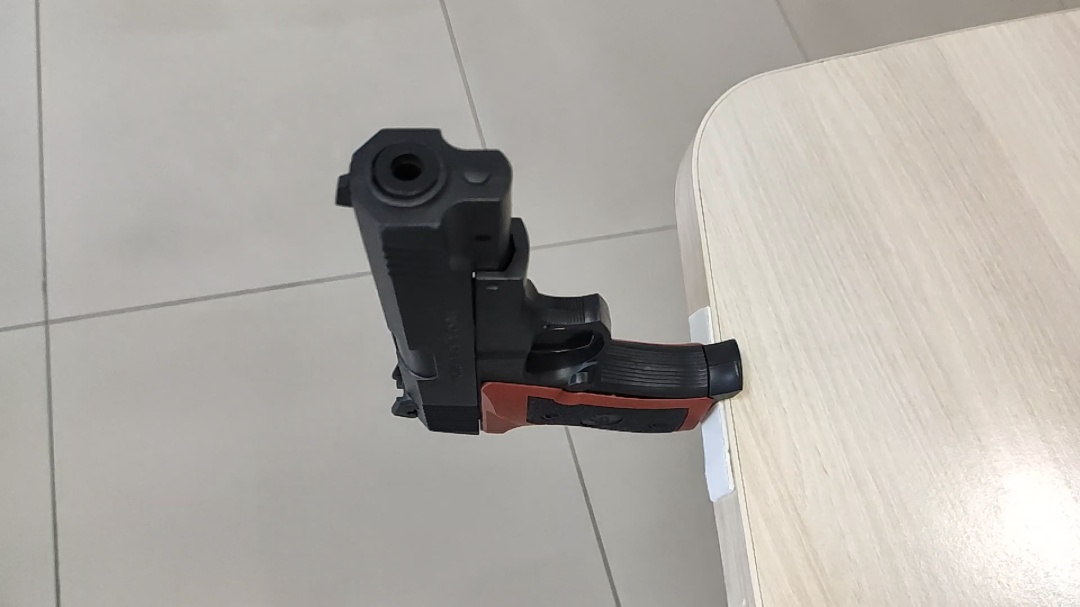gun: (331, 122, 747, 438)
